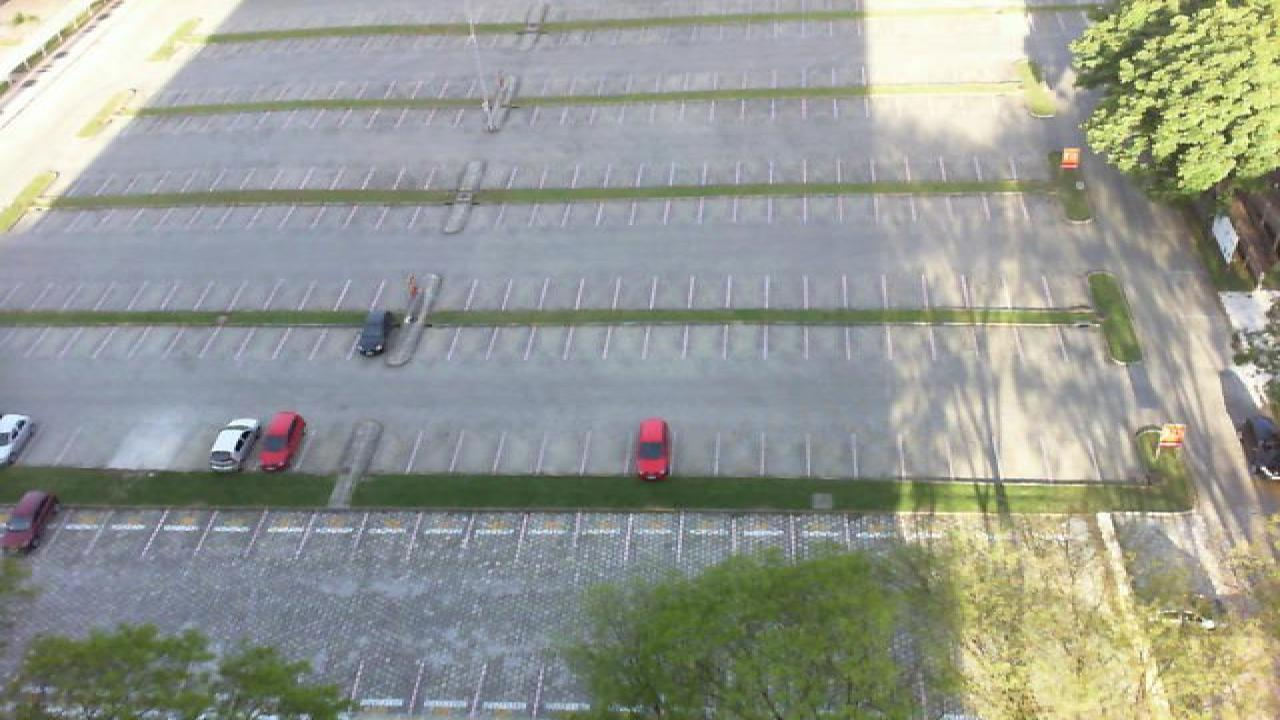Car: (0, 489, 60, 557), (258, 410, 308, 472), (208, 418, 260, 472), (634, 416, 674, 483), (1244, 414, 1280, 479), (354, 308, 400, 358), (0, 413, 34, 467)
